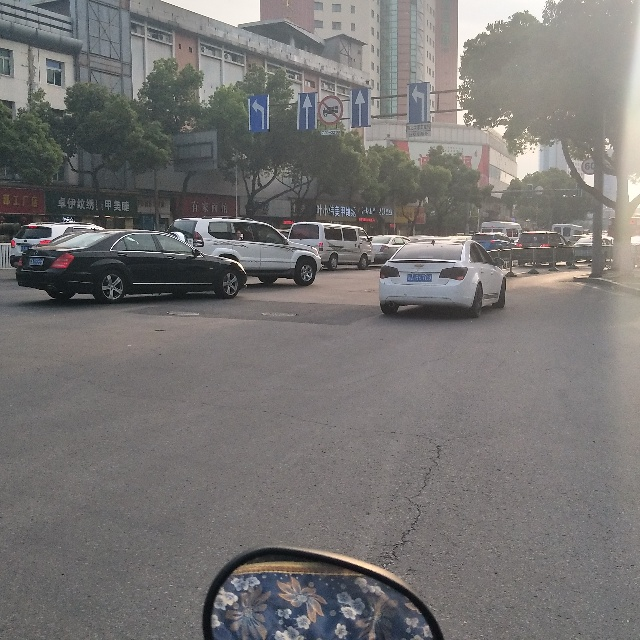left: (406, 82, 430, 123), (248, 94, 270, 131)
straight: (297, 92, 318, 130), (350, 89, 370, 128)
